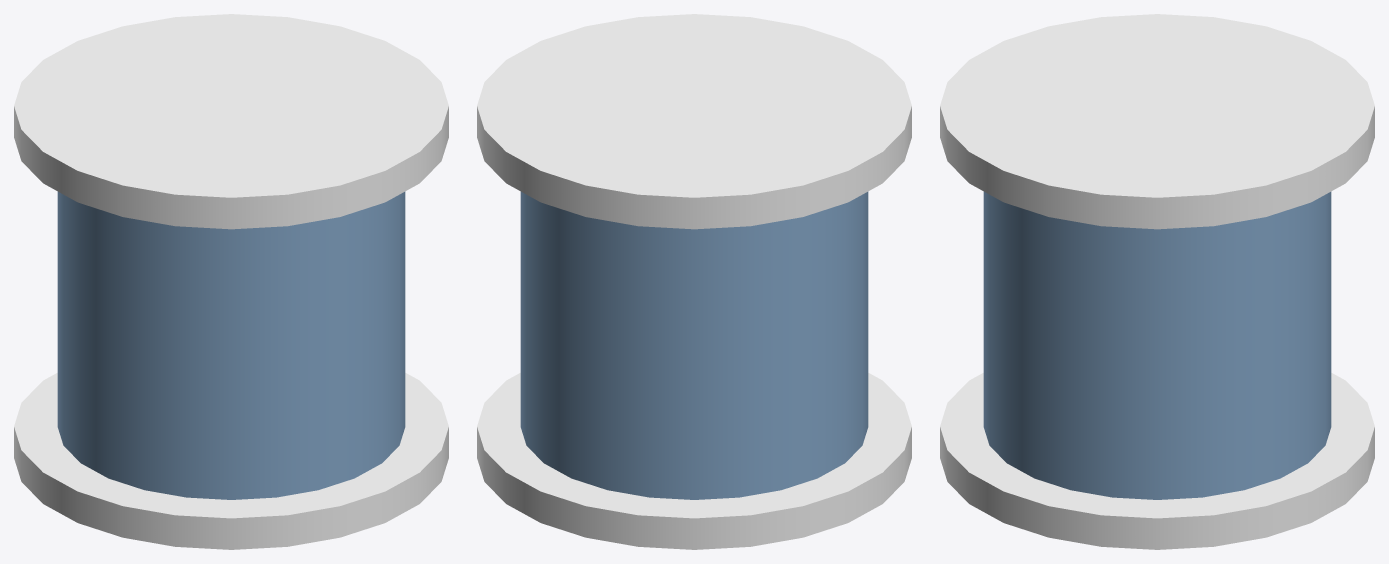
The model's file is decorado_bobina_grande.glb.
The picture shows the model from 3 angles, left to right: view 1: azimuth 30°, elevation 25°; view 2: azimuth 150°, elevation 25°; view 3: azimuth 270°, elevation 25°; orthographic projection.
Visible parts, largest first — view 1: Disco (×2), Hilo; view 2: Disco (×2), Hilo; view 3: Disco (×2), Hilo.
Part boxes in pixels (left/top/right/bottom): Disco (×2): left=14, top=14, right=448, bottom=549; Hilo: left=57, top=191, right=405, bottom=499; Disco (×2): left=477, top=14, right=911, bottom=549; Hilo: left=520, top=191, right=868, bottom=499; Disco (×2): left=940, top=14, right=1374, bottom=549; Hilo: left=983, top=191, right=1331, bottom=499.
Bounding box in the file's own units: 1.5 × 1.34 × 1.5.
